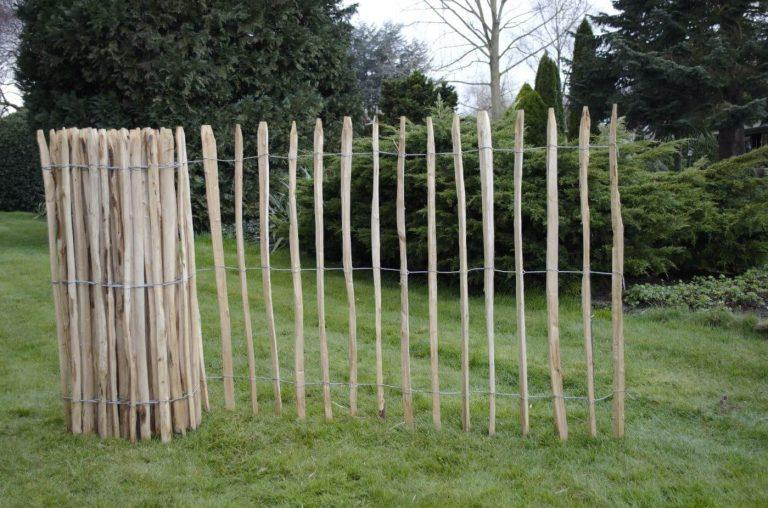obstacle: (0, 194, 768, 404)
